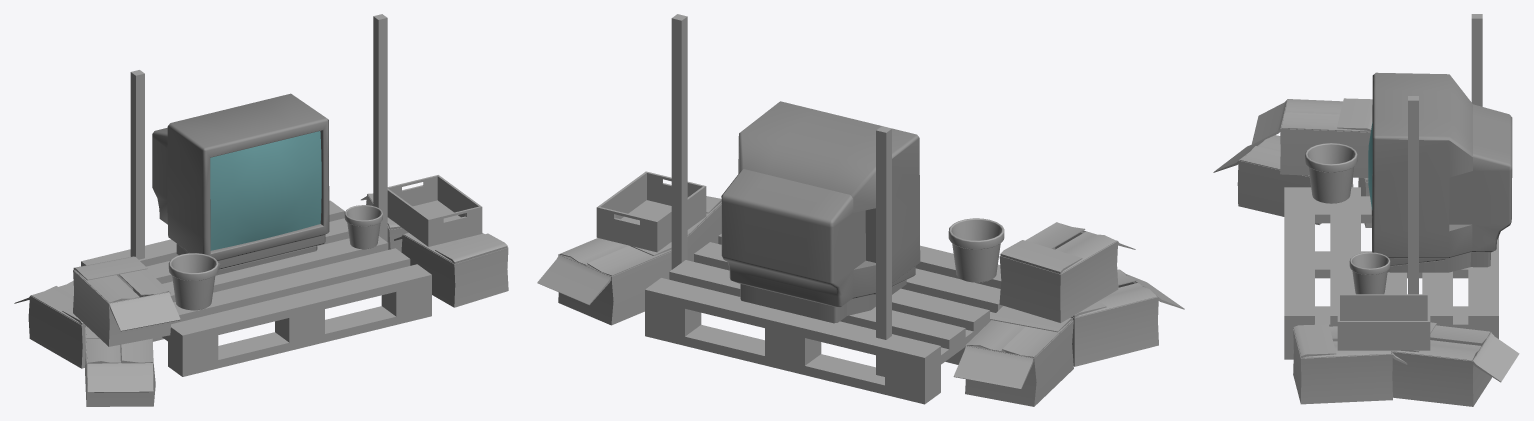
The model's file is SM_Shop.fbx.
3 views of the same model, side by side, from view 1: azimuth 30°, elevation 25°; view 2: azimuth 150°, elevation 25°; view 3: azimuth 270°, elevation 25° (orthographic). The views are drawn at different scales.
Visible parts, largest first — view 1: SM_Shop; view 2: SM_Shop; view 3: SM_Shop.
Part boxes in pixels (x1,y1,x2,y2): SM_Shop: [14, 14, 508, 406]; SM_Shop: [537, 14, 1184, 406]; SM_Shop: [1213, 14, 1519, 406].
Bounding box in the file's own units: 215 × 114 × 118.
